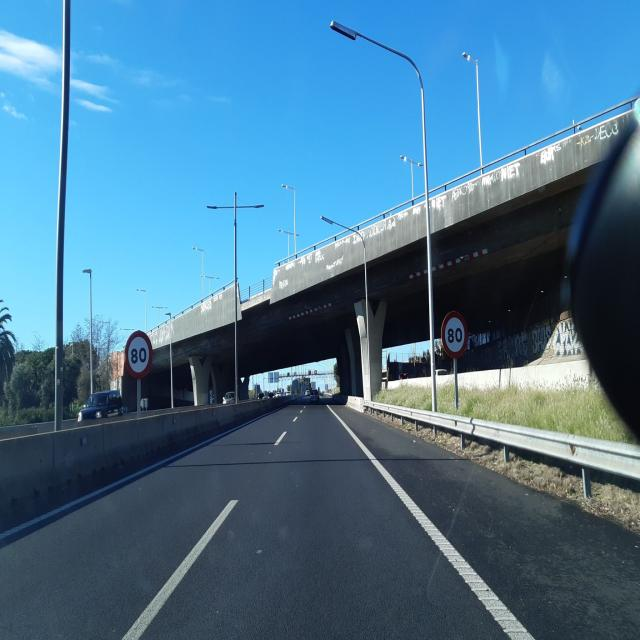car: (77, 390, 124, 422), (222, 391, 236, 406)
